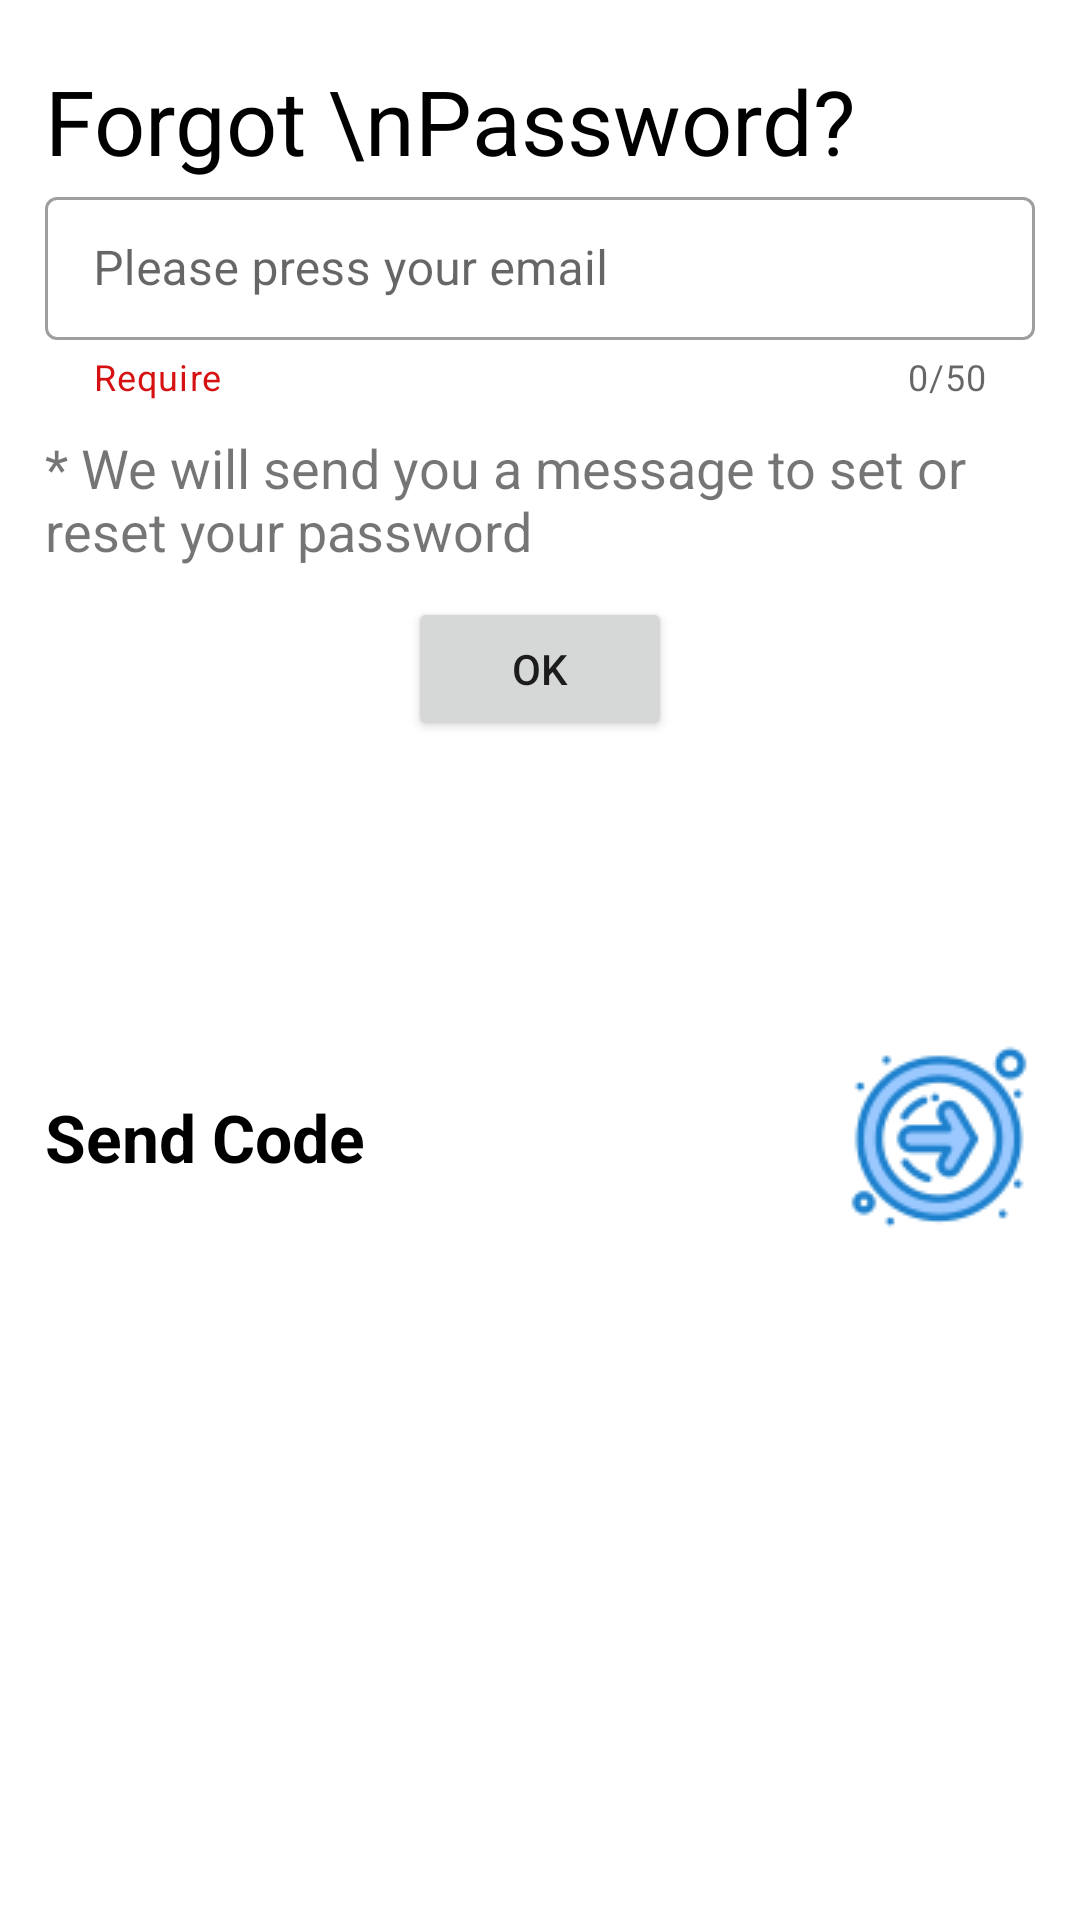

Named icons in this screenshot (1080x1920) and their centers, [x,y]:
next: [939,1136]
